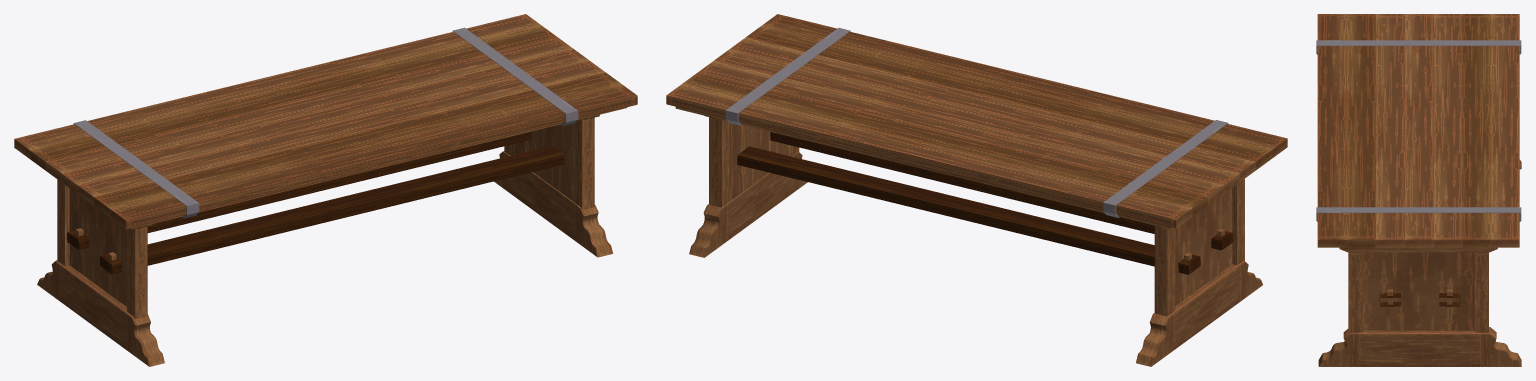
File: Table_Large.gltf
3 views of the same model, side by side, from view 1: azimuth 30°, elevation 25°; view 2: azimuth 150°, elevation 25°; view 3: azimuth 270°, elevation 25° (orthographic). The views are drawn at different scales.
Visible parts, largest first — view 1: Table_Large; view 2: Table_Large; view 3: Table_Large.
Part boxes in pixels (x1,y1,x2,y2): Table_Large: (14, 14, 637, 366); Table_Large: (666, 14, 1287, 366); Table_Large: (1316, 14, 1521, 366).
Size of the model in its own units: 2.85 by 0.8134 by 1.1.
Materials: 2 (2 with a texture image).
